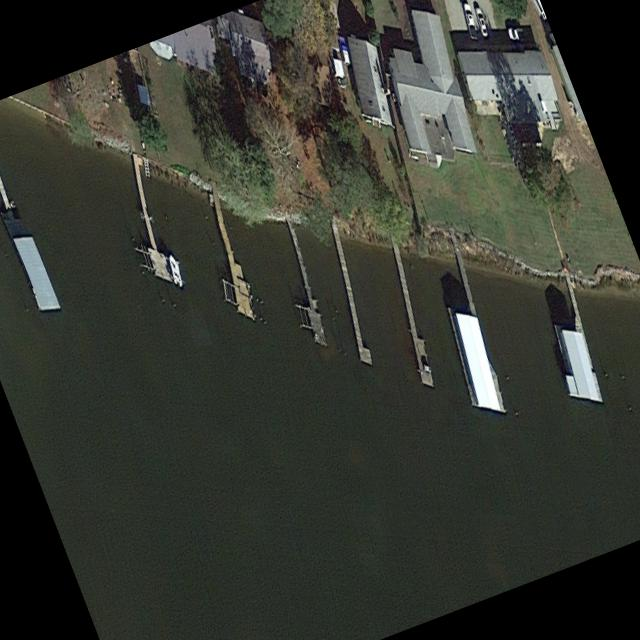ship: (167, 253, 185, 290)
small-vehicle: (463, 1, 480, 42), (475, 7, 489, 37), (507, 27, 528, 43)
